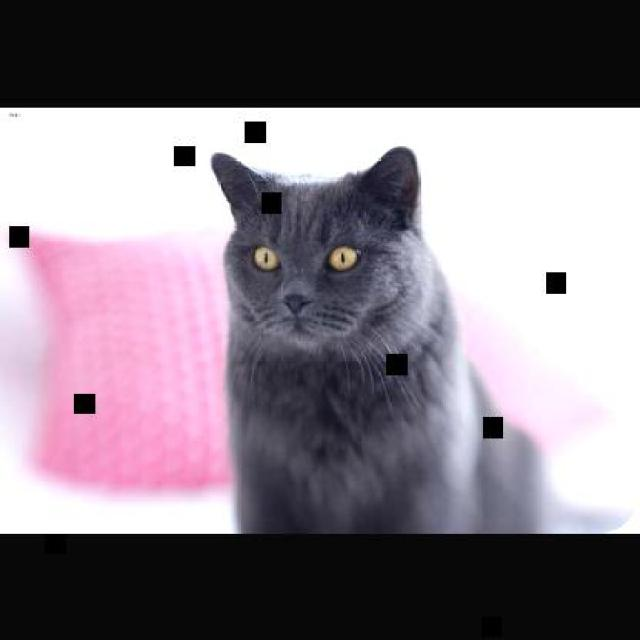unauthorized: (209, 144, 631, 534)
